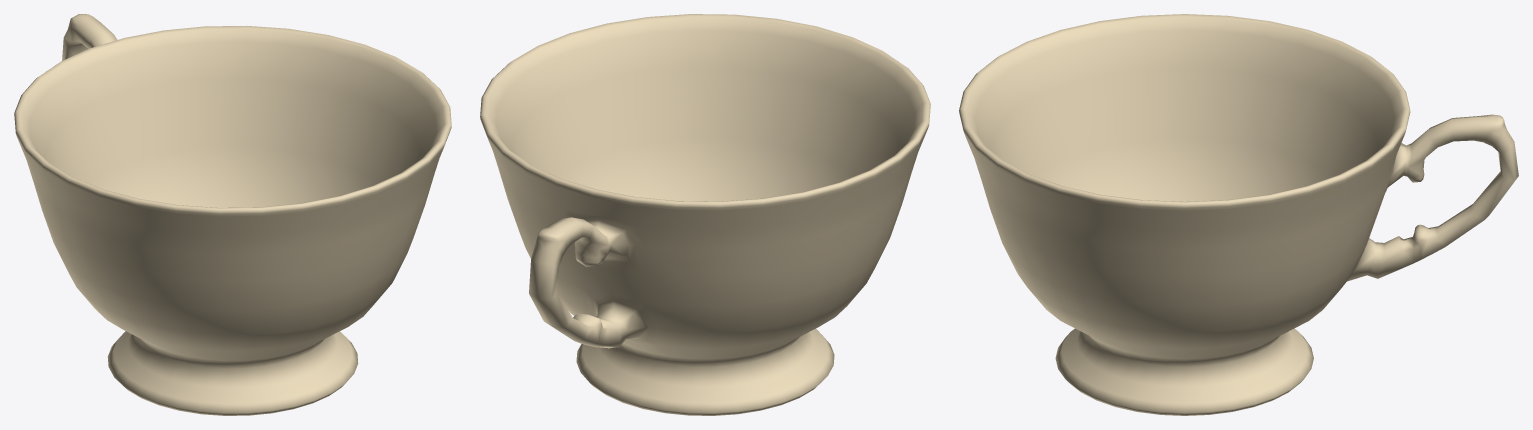
The model's file is Xicara.fbx.
3 renders of one model, left to right at view 1: azimuth 30°, elevation 25°; view 2: azimuth 150°, elevation 25°; view 3: azimuth 270°, elevation 25°, orthographic. The views are drawn at different scales.
Parts seen in each view (by area): view 1: Xicara; view 2: Xicara; view 3: Xicara.
Boxes of the visible parts, <box> form: Xicara: <box>14,14,451,415</box>; Xicara: <box>480,14,930,415</box>; Xicara: <box>959,14,1518,415</box>.
Bounding box in the file's own units: 10.69 × 6.74 × 13.26.
